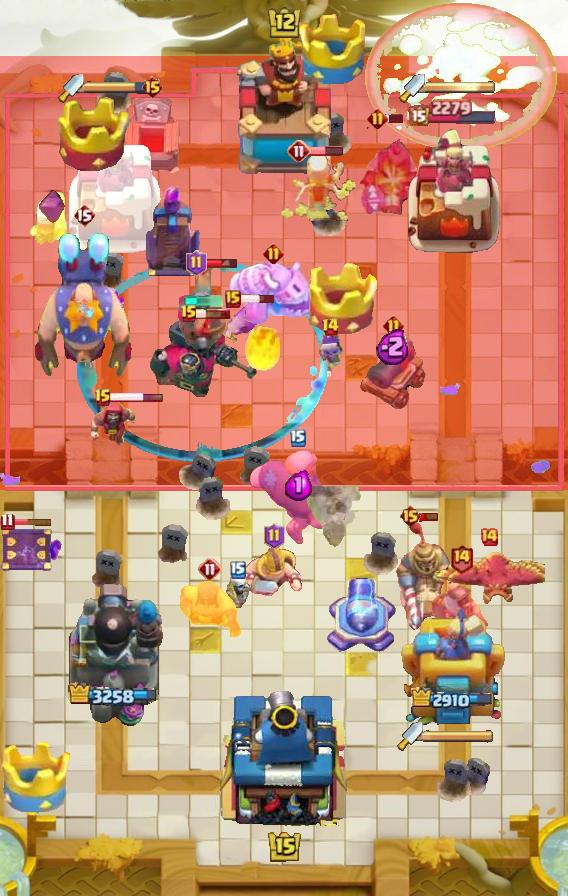balloon: (247, 448, 349, 548)
bandit: (429, 573, 493, 647)
bar: (401, 601, 505, 731), (64, 124, 164, 256), (403, 124, 503, 256)
bowler: (88, 398, 138, 454)
dark-prince: (178, 263, 244, 353)
electro-spirit: (376, 327, 412, 365), (285, 471, 312, 502)
elixir-golem-mid: (117, 96, 187, 182)
emote: (110, 392, 164, 403), (0, 517, 52, 526), (239, 293, 276, 305), (308, 145, 344, 157), (204, 257, 240, 269), (195, 308, 231, 320), (385, 112, 405, 123), (419, 511, 439, 522)
fisherman: (304, 487, 362, 549)
giant: (218, 297, 270, 347)
goblin: (315, 333, 345, 379)
goblin-giant: (243, 548, 305, 596)
heal-spirit: (225, 572, 251, 608)
ice-spirit: (182, 295, 224, 307)
ice-spirit-evolution-symbol: (143, 186, 203, 278), (0, 524, 54, 574)
inferno-dragon: (356, 117, 422, 219)
inferno-tower: (147, 318, 259, 404)
king-tower: (214, 684, 354, 826), (228, 41, 340, 181)
king-tower-bar: (84, 80, 156, 94), (423, 729, 495, 743), (425, 80, 495, 94)
little-prince: (32, 232, 136, 380)
monk: (178, 581, 242, 641)
mother-witch: (433, 550, 545, 620)
night-witch: (228, 256, 318, 328)
pad_0: (77, 259, 329, 463)
phoenix-big: (364, 0, 558, 151)
poison: (270, 147, 358, 221)
ram-rider: (392, 517, 454, 631)
royal-giant-evolution: (359, 336, 427, 410)
royal-recruit: (324, 574, 398, 658)
selected: (408, 98, 498, 126), (68, 683, 160, 710), (411, 687, 495, 713)
skeleton-king-skill: (38, 189, 66, 225)
text: (449, 543, 474, 574), (287, 139, 311, 163), (398, 504, 422, 528), (198, 557, 222, 581), (141, 75, 164, 99), (185, 250, 206, 276), (263, 523, 284, 549), (73, 203, 95, 227), (367, 107, 389, 128), (263, 243, 284, 265), (383, 315, 405, 336), (320, 317, 340, 337), (479, 527, 499, 547), (180, 304, 198, 324), (94, 388, 112, 408), (225, 290, 241, 308), (290, 429, 306, 447), (230, 561, 246, 579), (1, 512, 16, 531)
tombstone: (27, 189, 69, 247)
tower-bar: (63, 579, 165, 731)
valkyrie: (244, 318, 286, 374)
